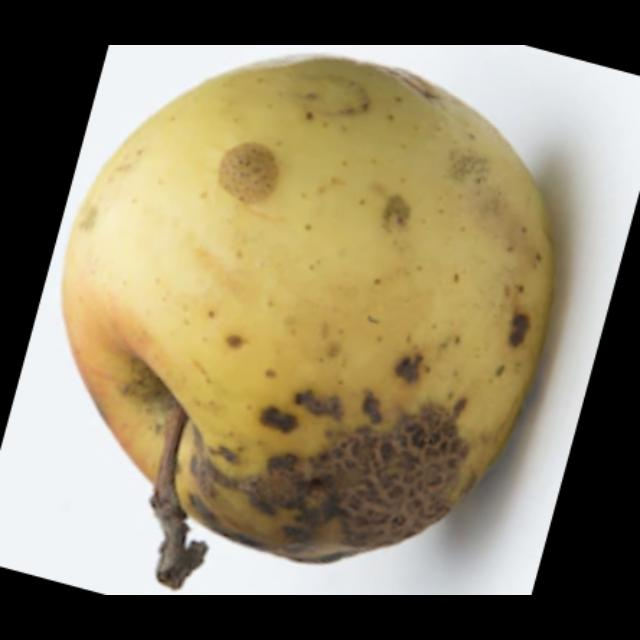Apel Tidak Segar: (57, 58, 550, 572)
